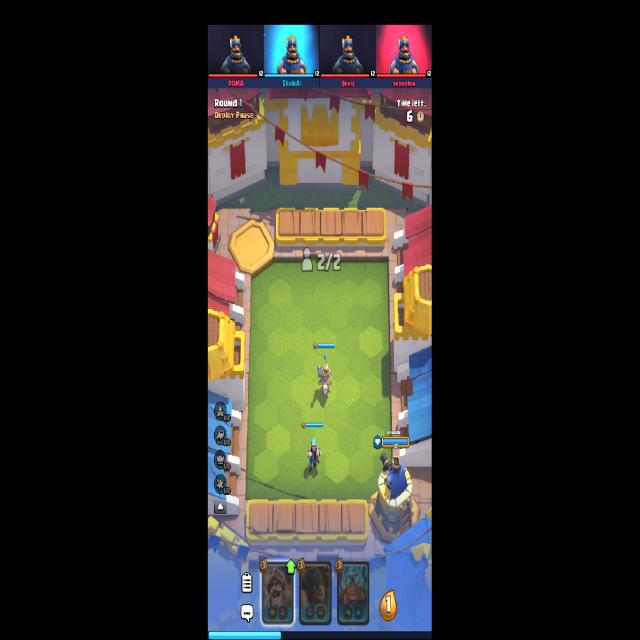card_electro_giant: (336, 560, 370, 624)
card_executioner: (299, 560, 332, 626)
card_prince: (262, 559, 293, 624)
prince: (318, 353, 333, 395)
wizard: (307, 440, 321, 470)
